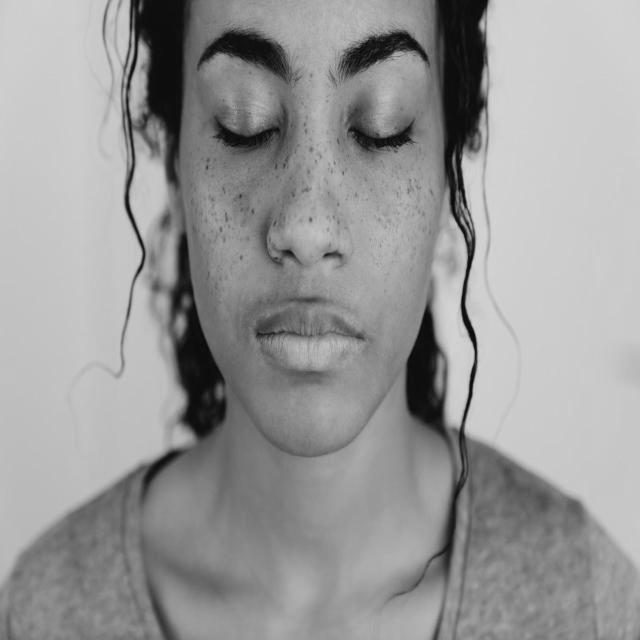real: (185, 15, 455, 413), (191, 4, 439, 166)
